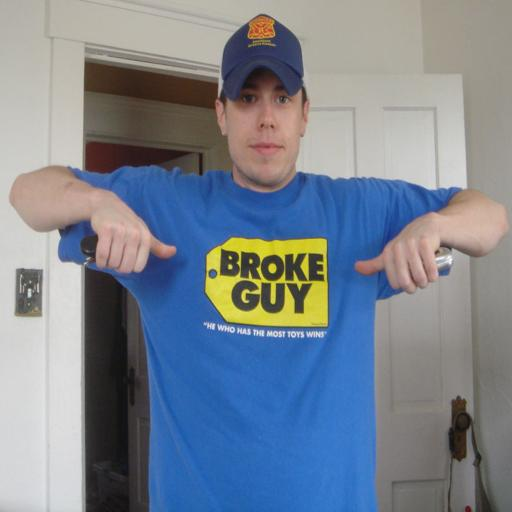no_gloves: (66, 194, 192, 294), (351, 212, 450, 295)
no_goggle: (214, 101, 310, 140)
none: (56, 146, 462, 474)
